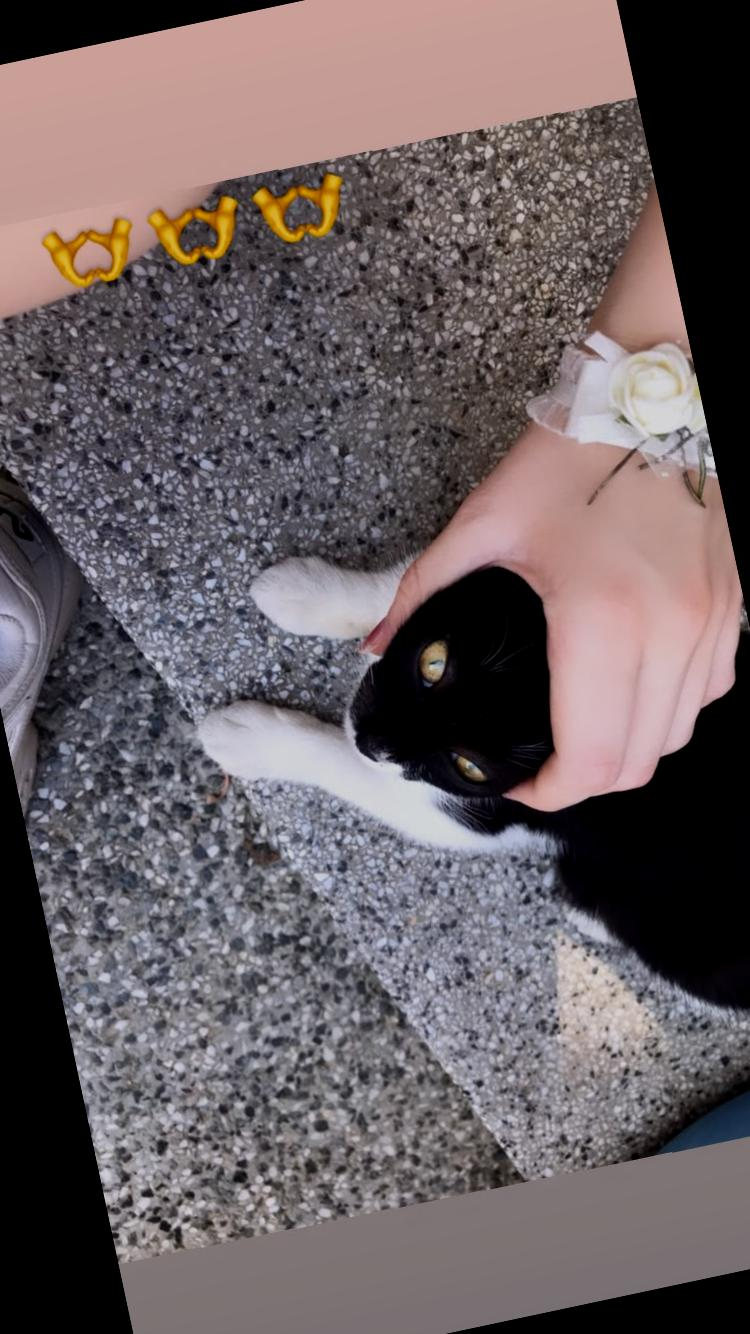macka: (162, 461, 750, 1118)
